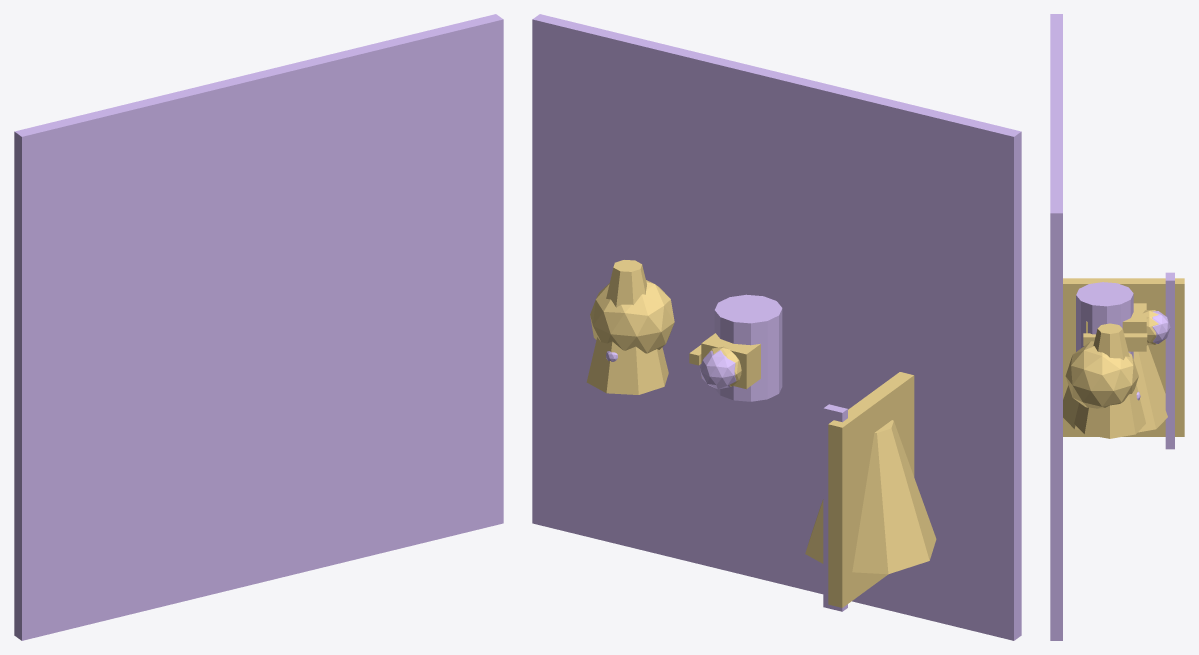
Rendered from dungeon-rpg-kit.glb.
The picture shows the model from 3 angles, left to right: view 1: azimuth 30°, elevation 25°; view 2: azimuth 150°, elevation 25°; view 3: azimuth 270°, elevation 25°; orthographic projection. The views are drawn at different scales.
Parts seen in each view (by area): view 1: ENVIRONMENT_GROUND; view 2: ENVIRONMENT_GROUND, PROFILE_ENVIRONMENT_DETAIL, ENVIRONMENT_LANDMARK, PLAYER_BODY, PROFILE_OBSTACLE_DETAIL, OBSTACLE, PROFILE_ENVIRONMENT_TRIM, PROFILE_PLAYER_DETAIL, PROFILE_PLAYER_HEAD; view 3: ENVIRONMENT_GROUND, PROFILE_ENVIRONMENT_DETAIL, OBSTACLE, PROFILE_OBSTACLE_DETAIL, PLAYER_BODY, ENVIRONMENT_LANDMARK, PROFILE_ENVIRONMENT_TRIM, PROFILE_PLAYER_DETAIL, PROFILE_PLAYER_TOOL, PROFILE_PLAYER_HEAD, PLAYER_CORE.
Part boxes in pixels (x1,y1,x2,y2): ENVIRONMENT_GROUND: [14, 14, 503, 640]; ENVIRONMENT_GROUND: [532, 14, 1021, 640]; PROFILE_ENVIRONMENT_DETAIL: [828, 372, 914, 607]; ENVIRONMENT_LANDMARK: [805, 420, 936, 574]; PLAYER_BODY: [714, 294, 782, 401]; PROFILE_OBSTACLE_DETAIL: [586, 260, 668, 394]; OBSTACLE: [590, 280, 674, 353]; PROFILE_ENVIRONMENT_TRIM: [823, 404, 847, 611]; PROFILE_PLAYER_DETAIL: [701, 333, 760, 389]; PROFILE_PLAYER_HEAD: [700, 350, 736, 389]; ENVIRONMENT_GROUND: [1050, 14, 1062, 640]; PROFILE_ENVIRONMENT_DETAIL: [1063, 278, 1184, 436]; OBSTACLE: [1065, 341, 1138, 408]; PROFILE_OBSTACLE_DETAIL: [1074, 323, 1145, 438]; PLAYER_BODY: [1076, 282, 1133, 358]; ENVIRONMENT_LANDMARK: [1063, 345, 1167, 432]; PROFILE_ENVIRONMENT_TRIM: [1165, 272, 1174, 449]; PROFILE_PLAYER_DETAIL: [1086, 303, 1146, 351]; PROFILE_PLAYER_TOOL: [1083, 333, 1147, 345]; PROFILE_PLAYER_HEAD: [1152, 311, 1170, 343]; PLAYER_CORE: [1143, 310, 1158, 344].
Size of what is drawn, in the model's own units: 9 by 9 by 2.56.
